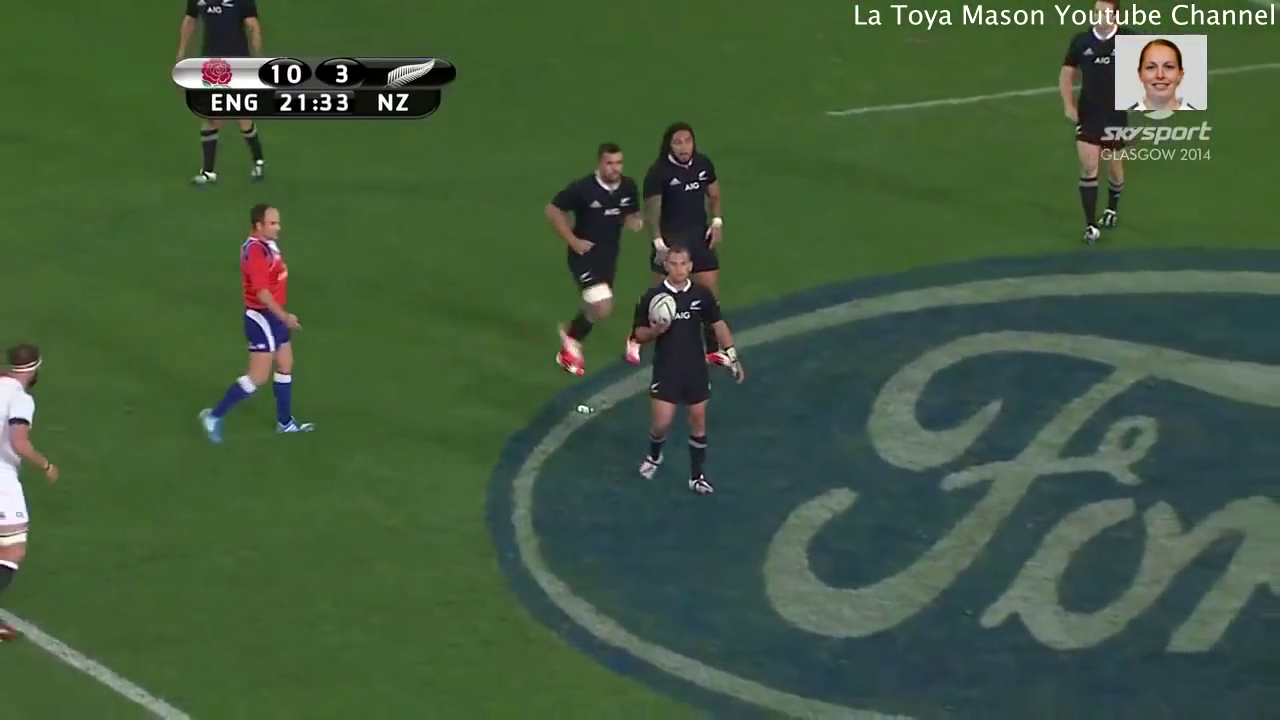ball: (637, 278, 684, 344)
player: (157, 194, 337, 457), (617, 244, 750, 512), (533, 127, 646, 384), (1, 313, 74, 663), (639, 106, 746, 343), (1049, 1, 1141, 250), (167, 1, 273, 191)
